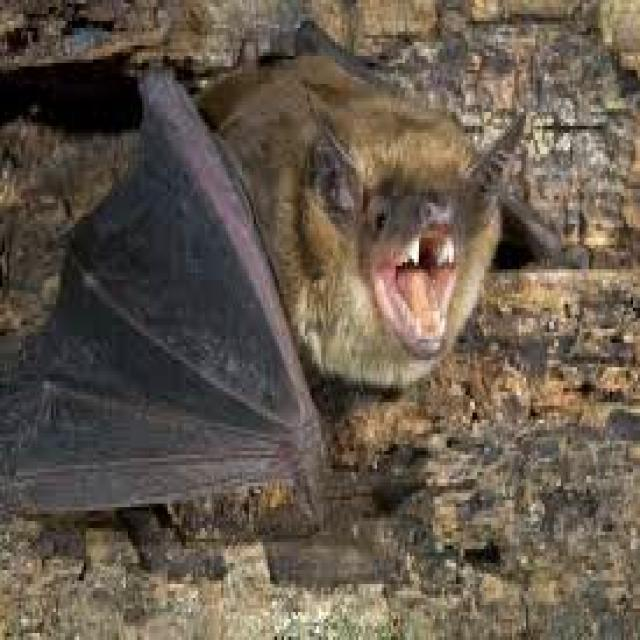bat: (0, 21, 586, 504)
